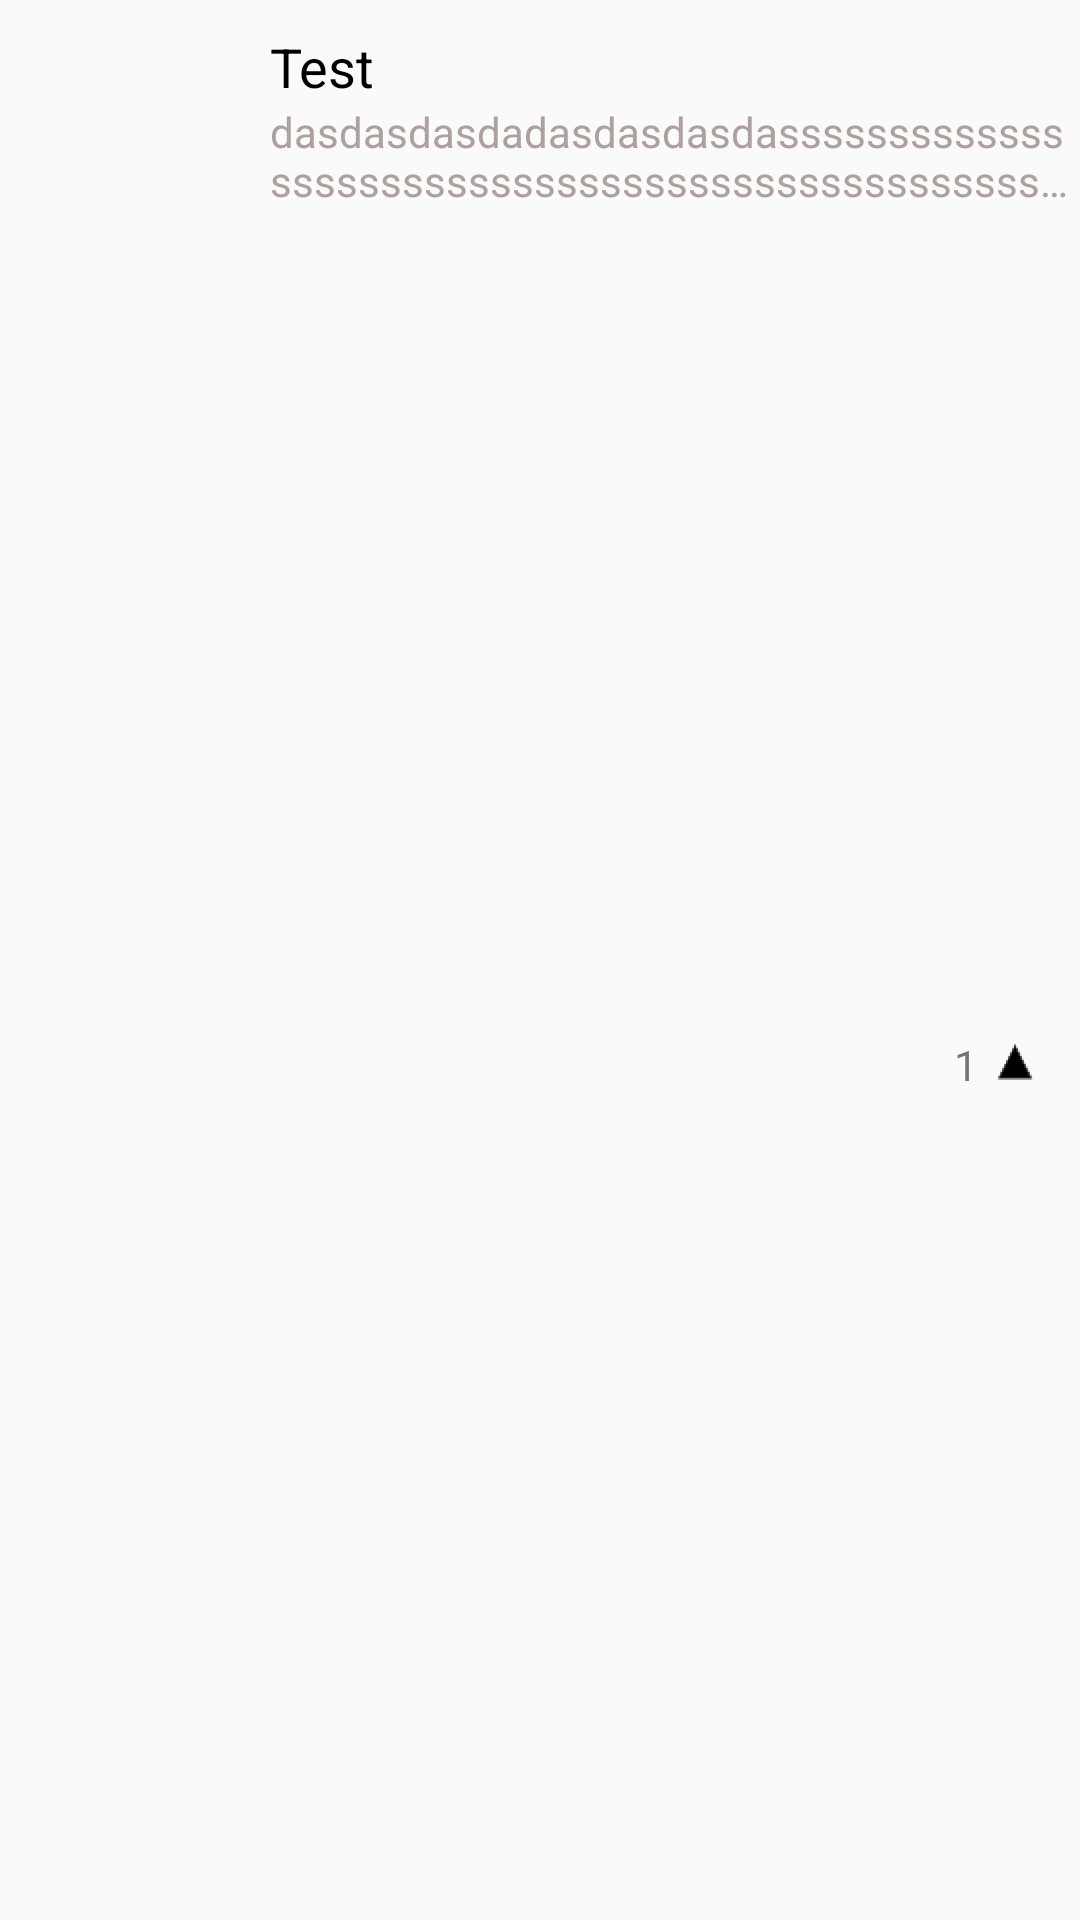

Icon bounding boxes for this 1080×1920 phone screenshot, format [x1=x1, y1=y1, x2=x2, y2=y2]:
vote: [x1=998, y1=1044, x2=1032, y2=1080]
